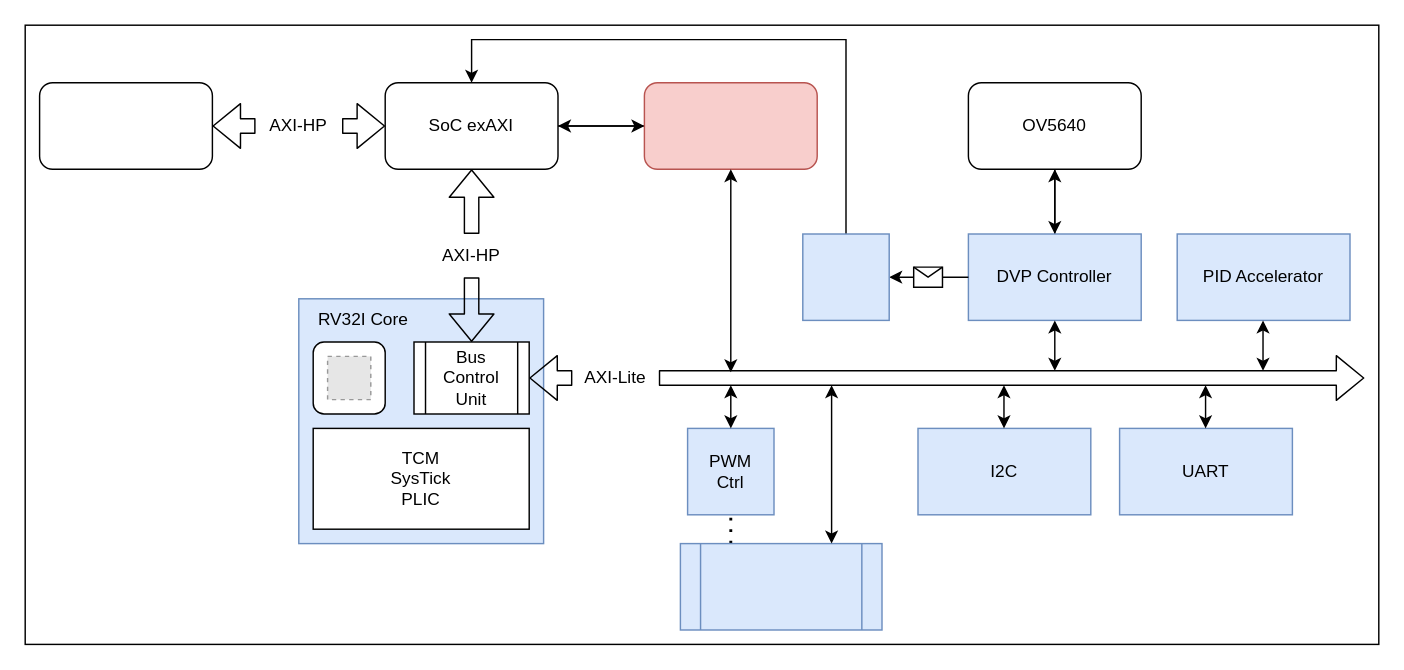
Image size: 1404x670. Some labels were removed from this diagram. Grey dashed boxes stand in for pictures. Here are the shapes that lost their labels. From the top down, the centre of each, then its label:
the point at 125,125: PS DDR3
the point at 730,125: Systolic Array TPU
the point at 845,276: VDMA
the point at 780,586: GPIO
